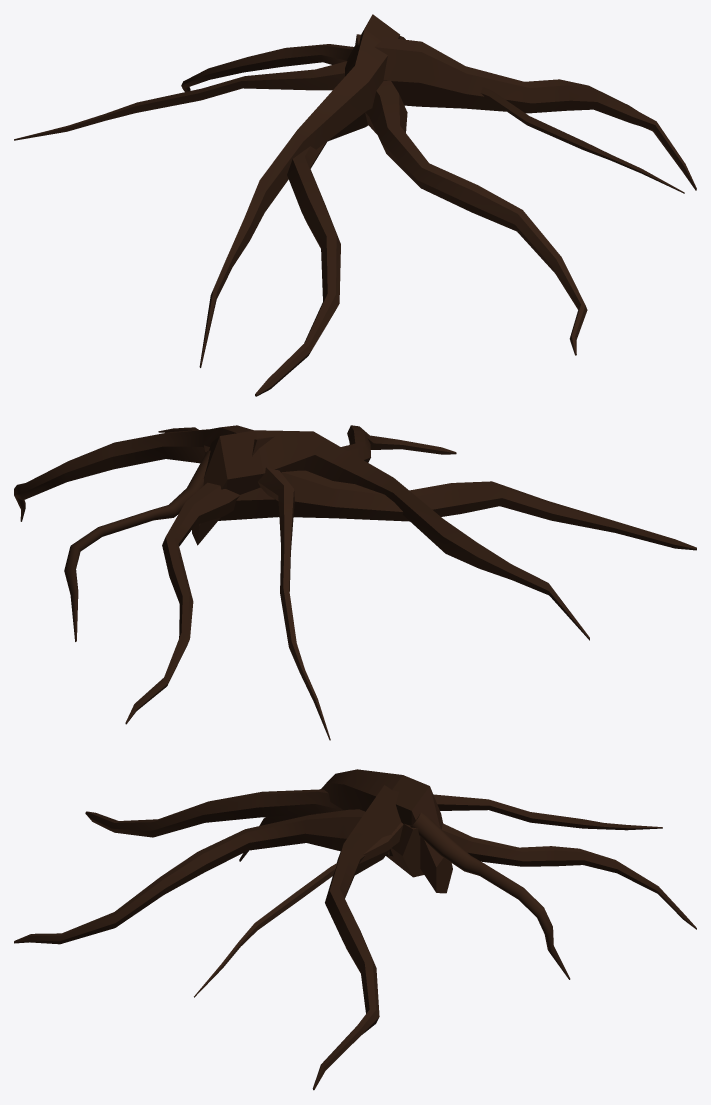
File: SM_roots_jungle_05.fbx
3 views of the same model, one above another, from view 1: azimuth 30°, elevation 25°; view 2: azimuth 150°, elevation 25°; view 3: azimuth 270°, elevation 25° (orthographic). The views are drawn at different scales.
Parts seen in each view (by area): view 1: Line020; view 2: Line020; view 3: Line020.
Part boxes in pixels (bbox=[...]): Line020: bbox=[14, 14, 696, 396]; Line020: bbox=[14, 425, 696, 740]; Line020: bbox=[14, 769, 696, 1090].
Bounding box in the file's own units: 233 × 84.91 × 260.
